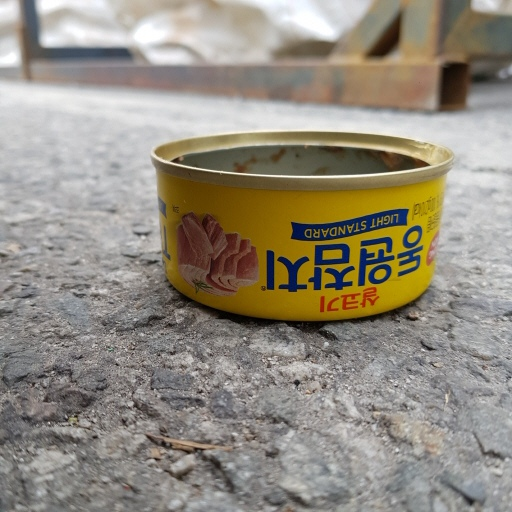Metal_1: (148, 124, 455, 319)
